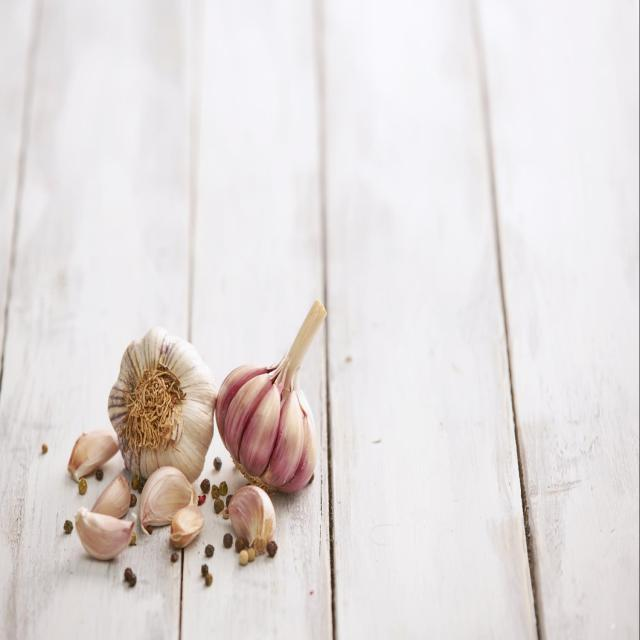garlic: (209, 301, 330, 498), (108, 328, 218, 491), (79, 468, 206, 559), (69, 426, 126, 485), (231, 485, 279, 550)
